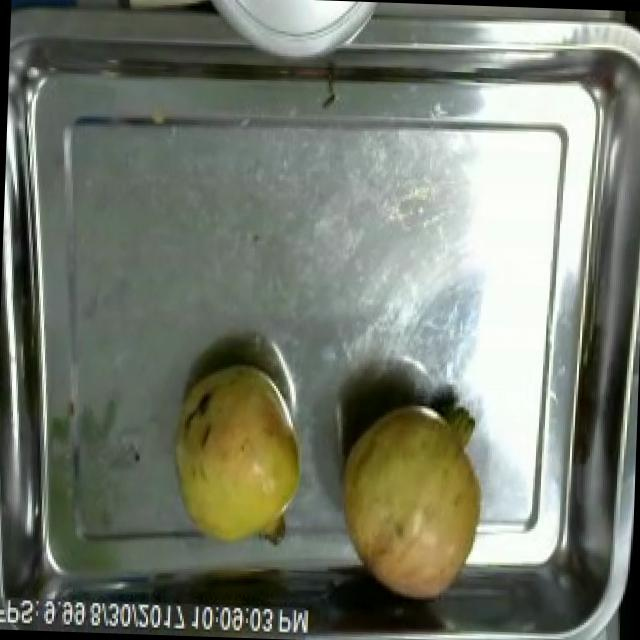fruit: (328, 390, 496, 609), (166, 352, 314, 561)
